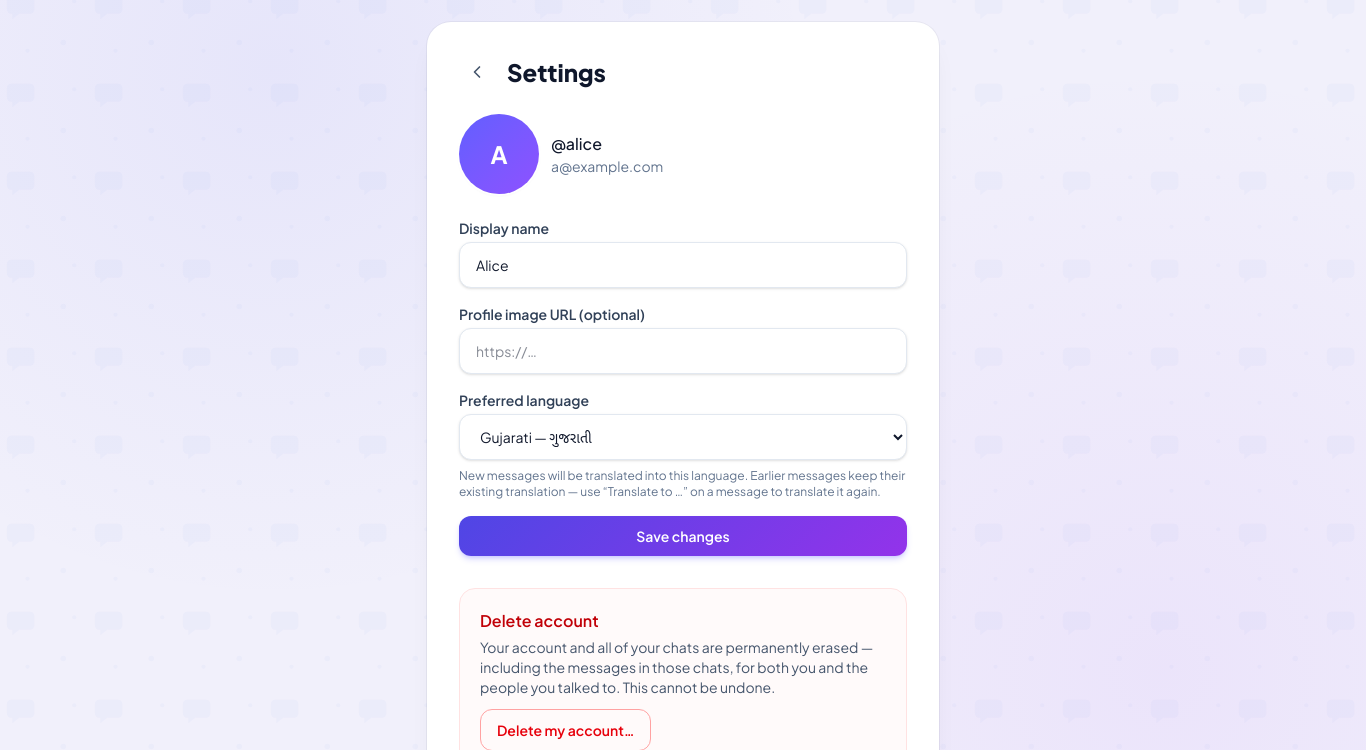
delete account › shows the server error for a wrong password and stays on the page
The image size is (1366, 750).
Click the button "Delete my account…" at (566, 730), box [480,709,651,749]
(page scrolled)
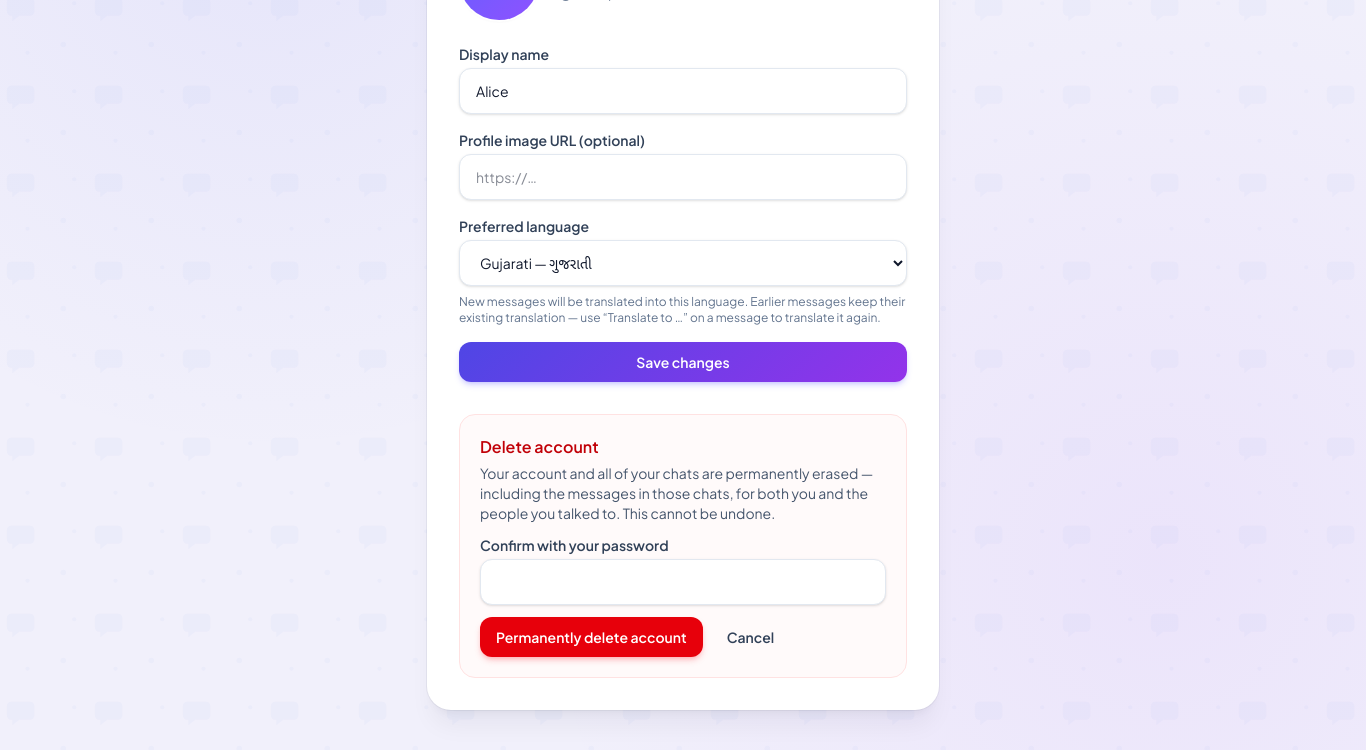
Type "wrong" into the password field labelled "Confirm with your password" at (683, 582), box [480,559,886,605]
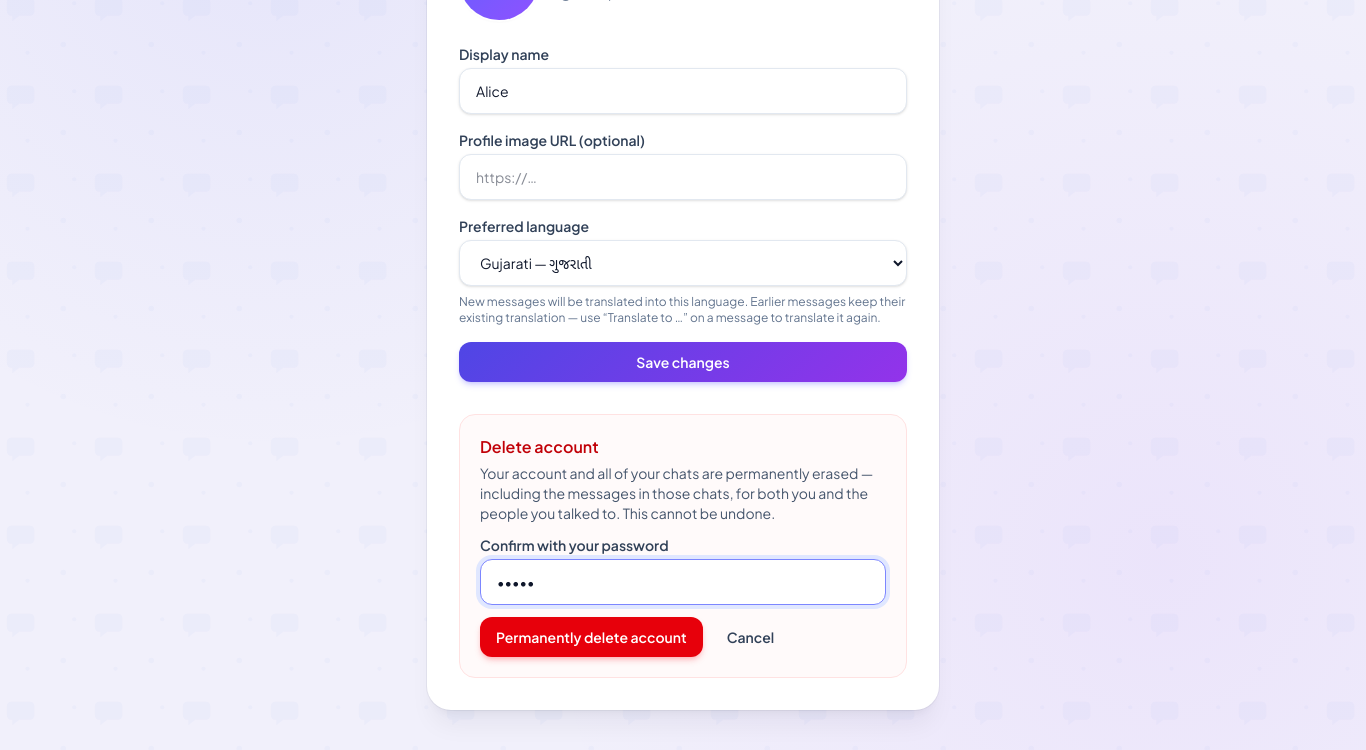
Click the button "Permanently delete account" at (591, 637), box [480,617,703,657]
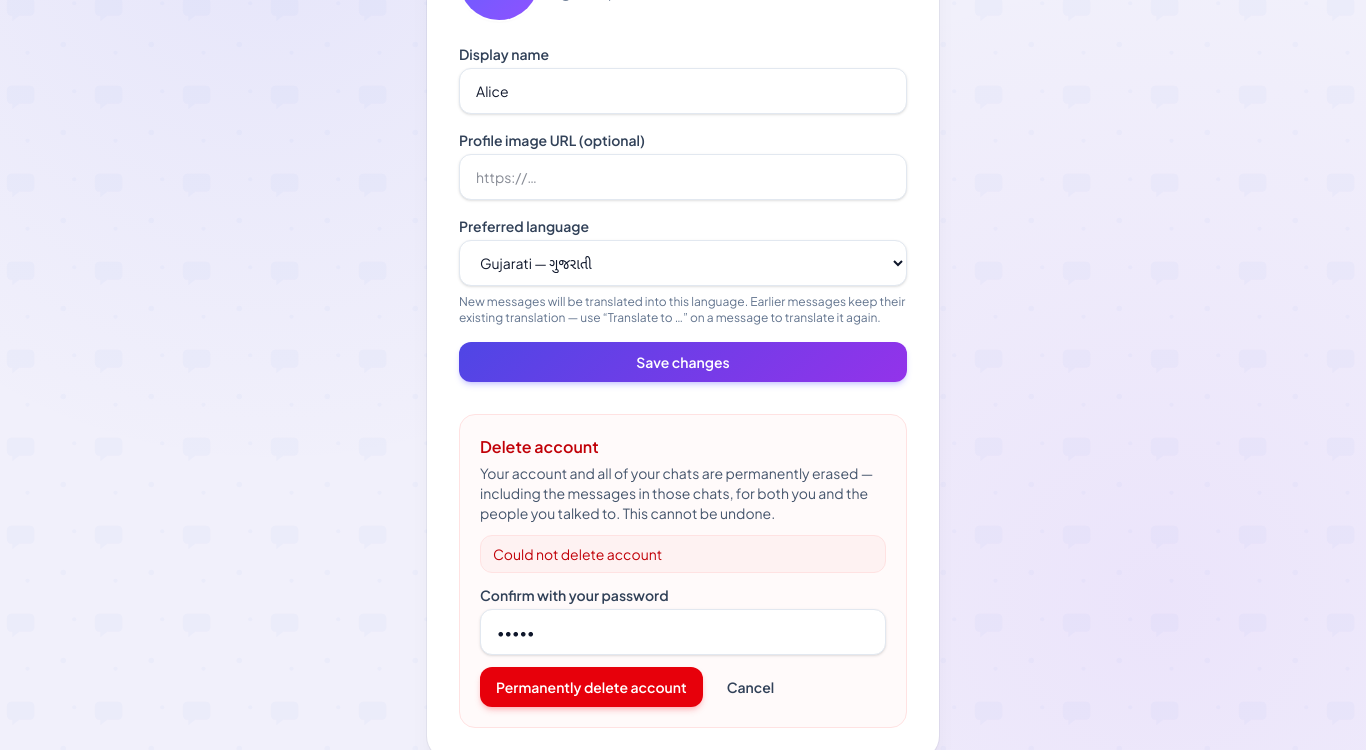
Expected: the message "Could not delete account" is shown, [480,535,886,573]
